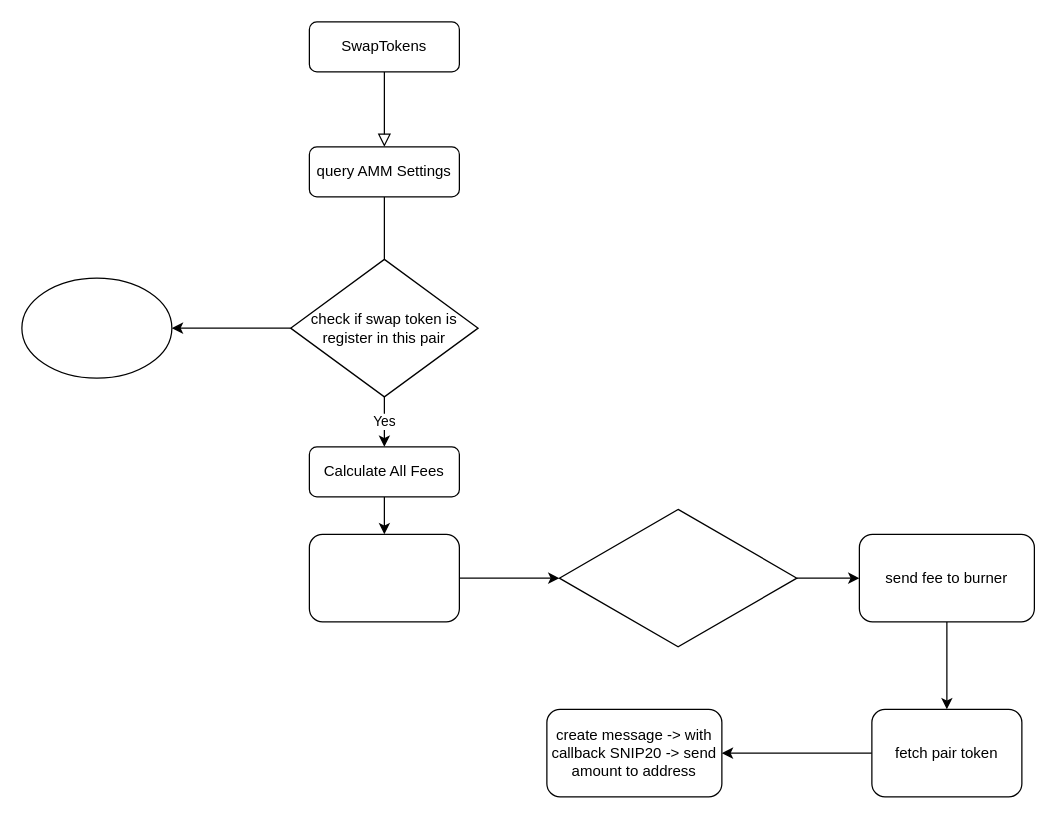
This 1056x819 diagram has some shape labels left out. The box of each missing label's shape, as (x1, y1, x2, y2) in pixels:
calculate * spread amount * swap/return amount: (308, 533, 459, 622)
check if token is native or custom: (558, 508, 797, 647)
Return Error: (21, 277, 172, 378)
